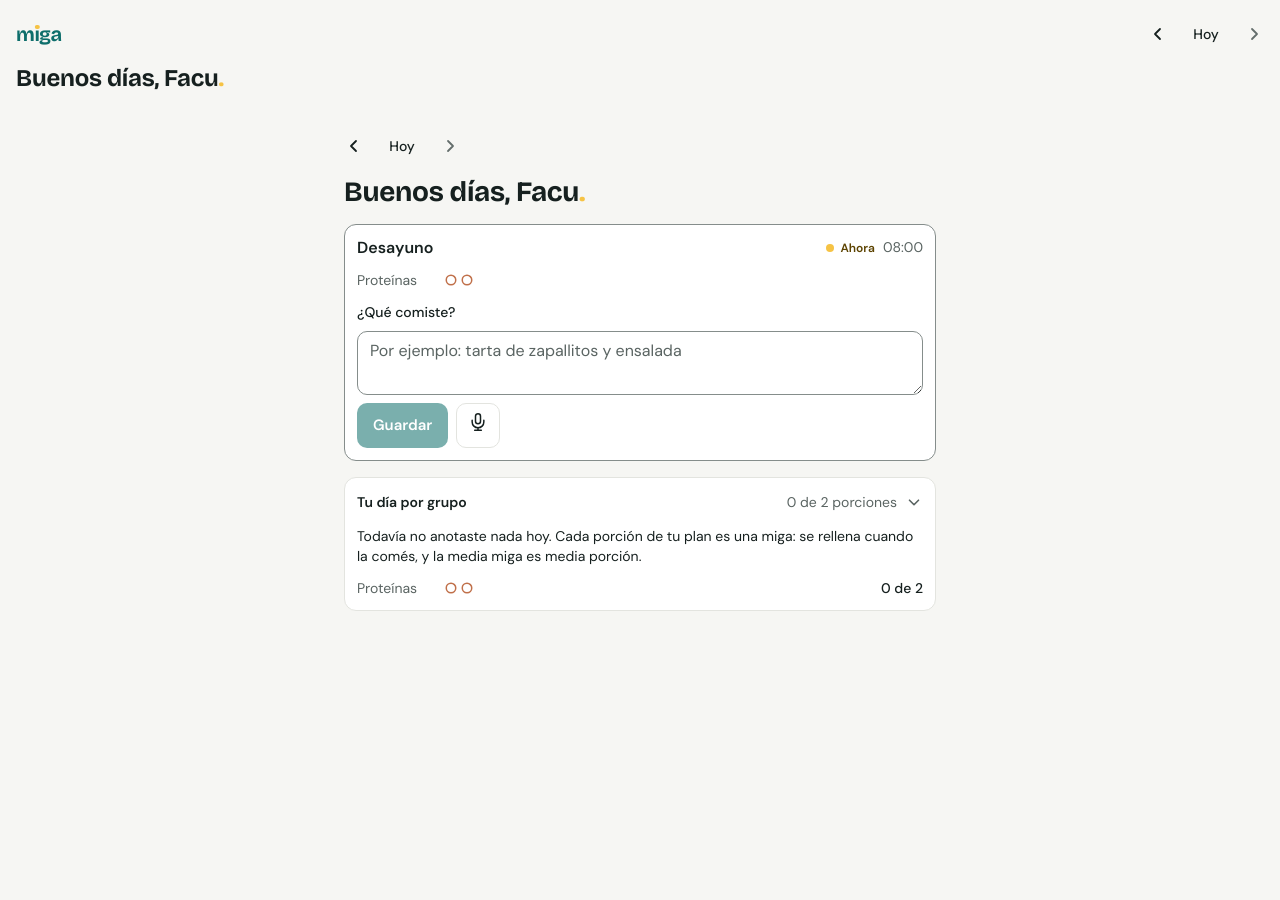
Scenario: muestra los alimentos reconocidos sin grupo con su regla
This screenshot has width=1280, height=900.
Expected: the heading "Desayuno" is shown, [357,236,433,258]
Type "mate" into the text box labelled "¿Qué comiste?" at coordinates (640, 363), box [357,331,923,395]
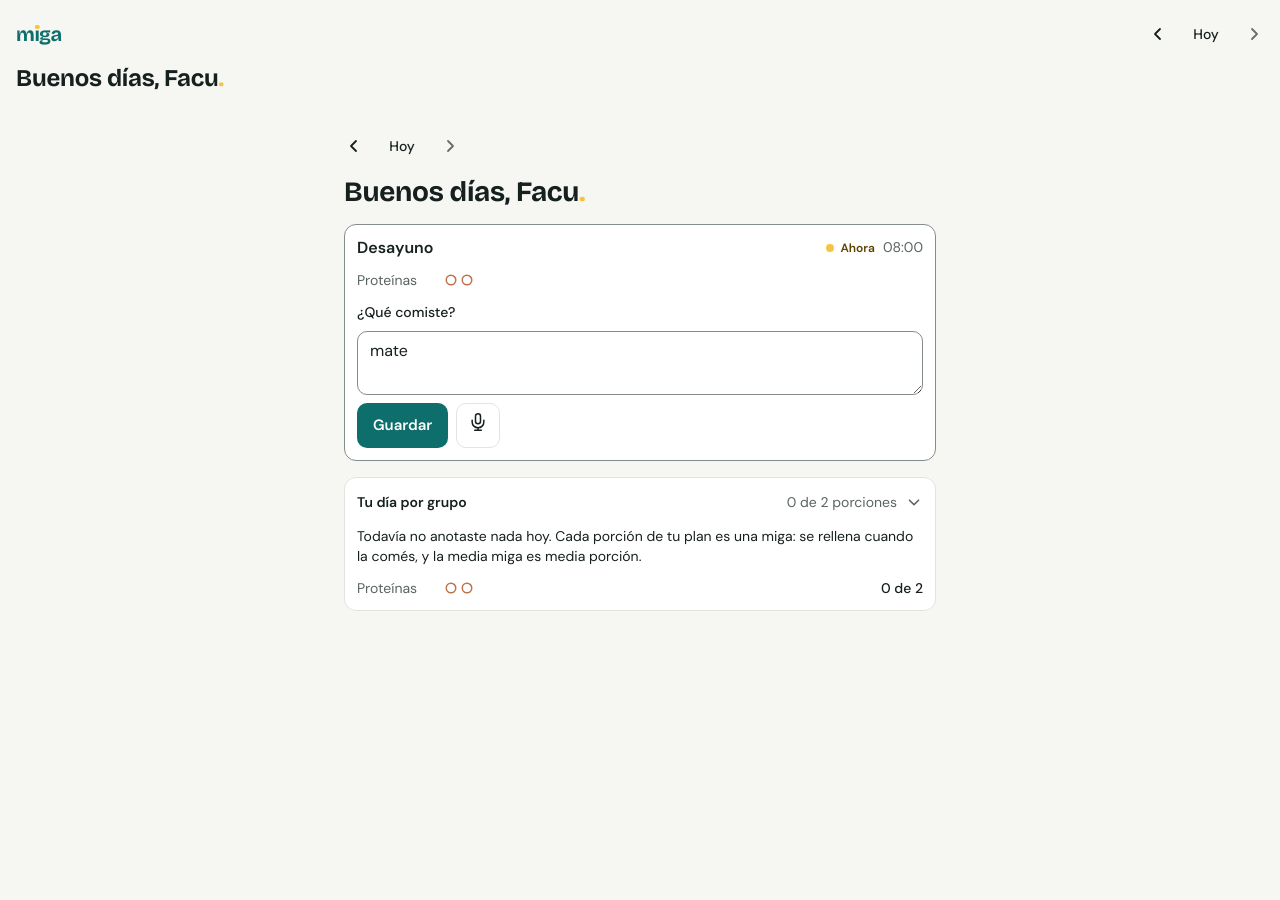
Click the button "Guardar" at coordinates (403, 426), box [357,403,448,448]
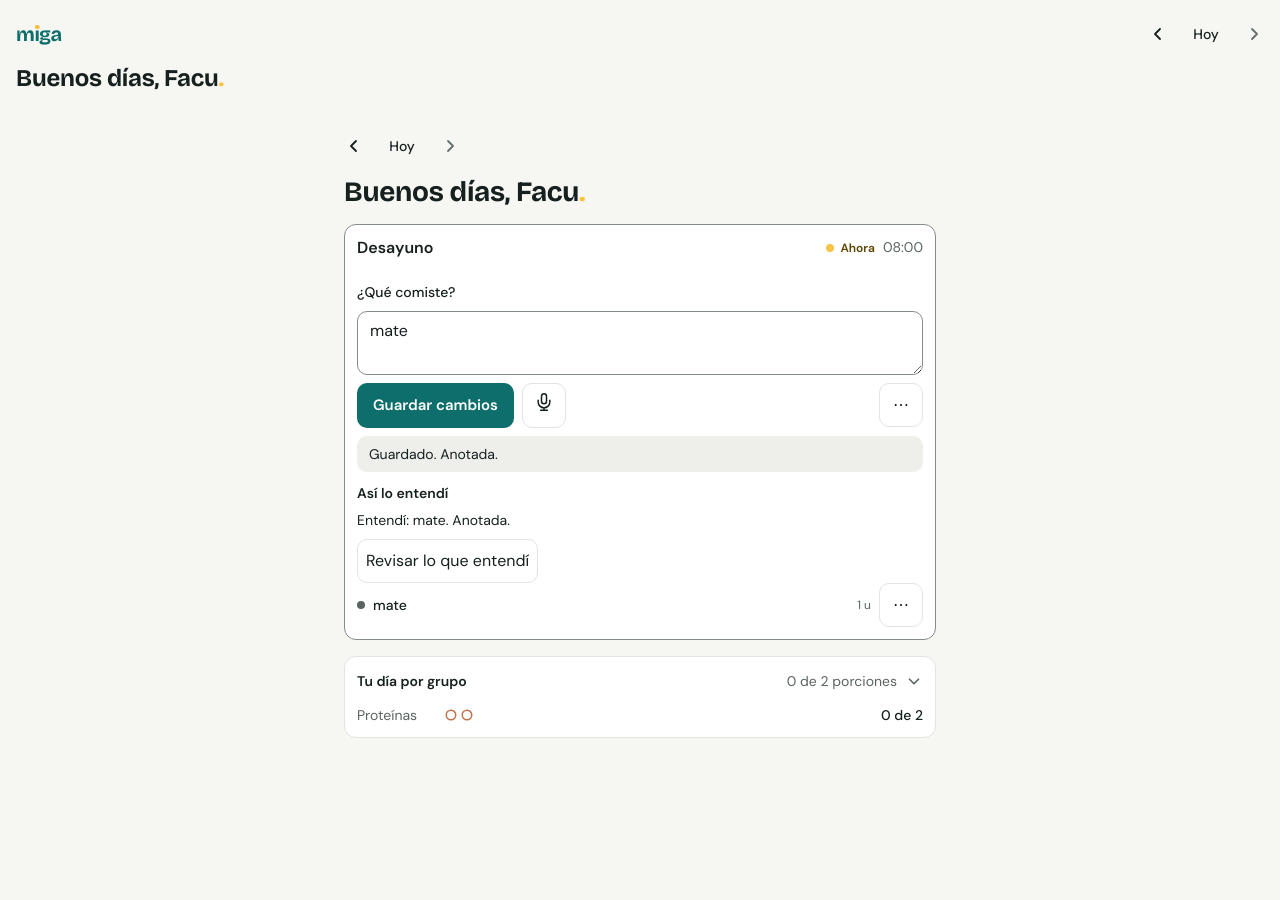
Click the button named "Más opciones de mate" at coordinates (901, 605), box [879,583,923,627]
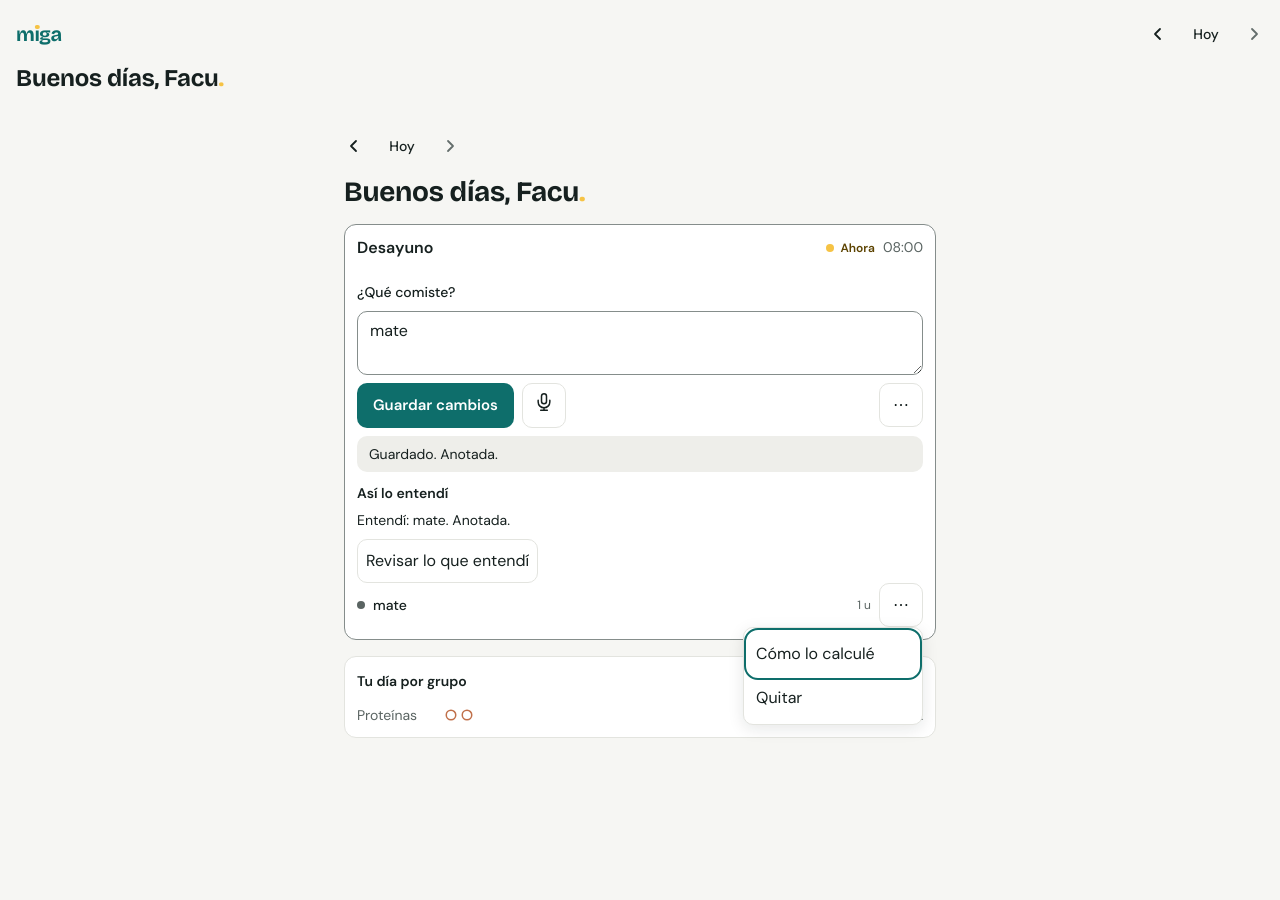
Click the menu item "Cómo lo calculé" at coordinates (833, 654), box [748,632,918,676]
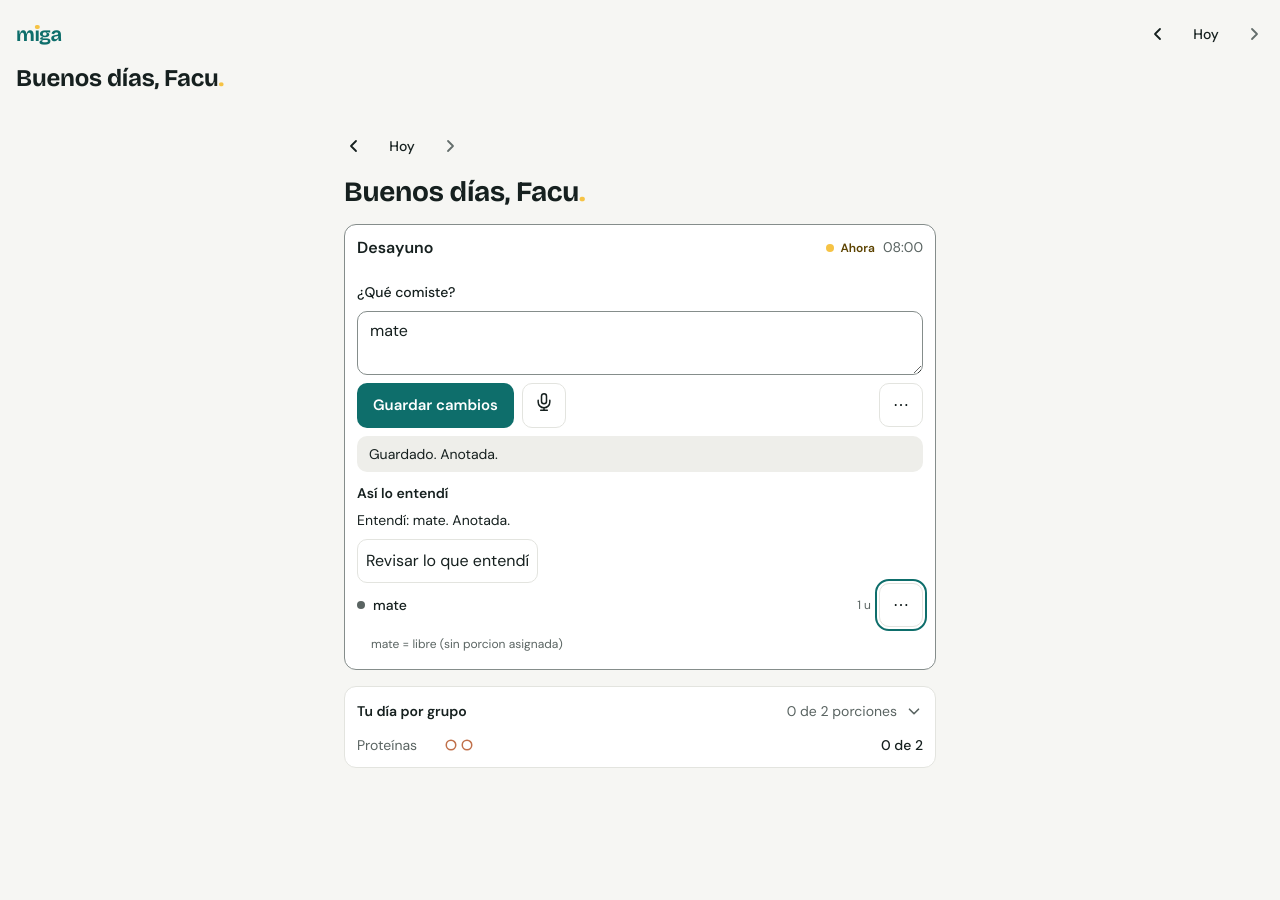
Expected: the text "mate = libre (sin porcion asignada)" is shown, [371,636,563,652]
